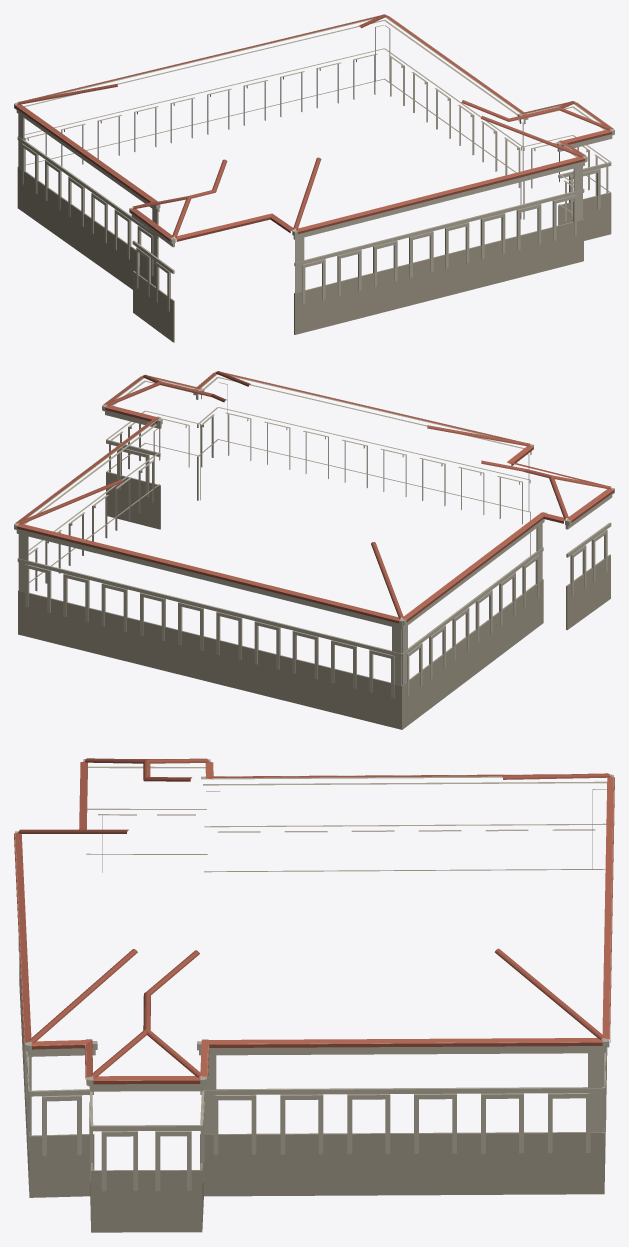
3 views of the same model, one above another, from view 1: azimuth 30°, elevation 25°; view 2: azimuth 150°, elevation 25°; view 3: azimuth 270°, elevation 25° (orthographic). The views are drawn at different scales.
Parts seen in each view (by area): view 1: detail; view 2: detail; view 3: detail.
Boxes of the visible parts, x1,y1,x2,y2 form: detail: (14,14,614,342); detail: (14,371,614,729); detail: (14,758,614,1232).
Size of the model in its own units: 31.63 by 9.19 by 24.95.
